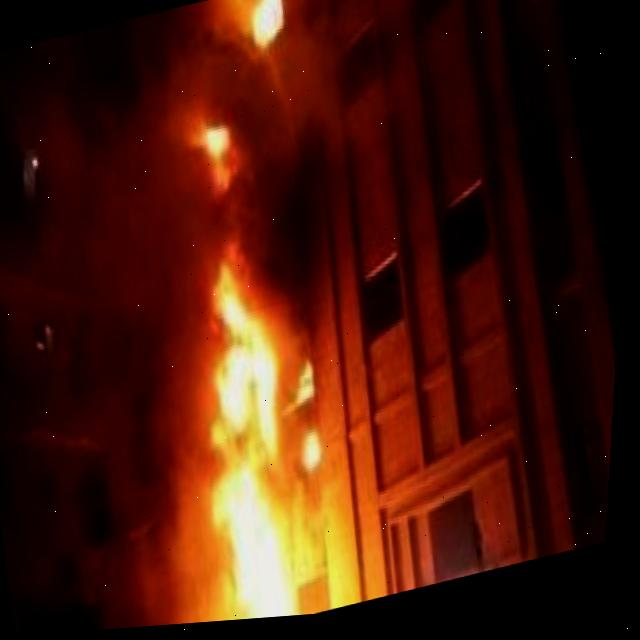fire: (217, 282, 303, 624)
smoke: (34, 0, 235, 631), (227, 36, 329, 339)
